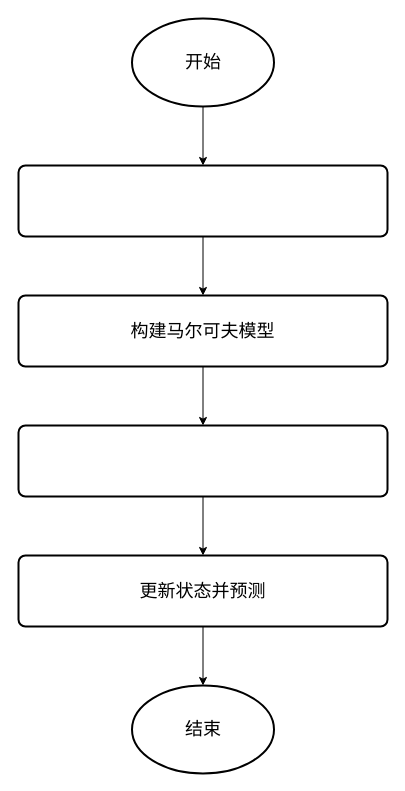
This 405x791 diagram has some shape labels left out. Here are the shapes that lost their labels. From the top down, the box of each, then its label:
(17, 164, 388, 237): 获取基本概率赋值函数
(17, 424, 388, 497): 应用 Dempster 合成规则
